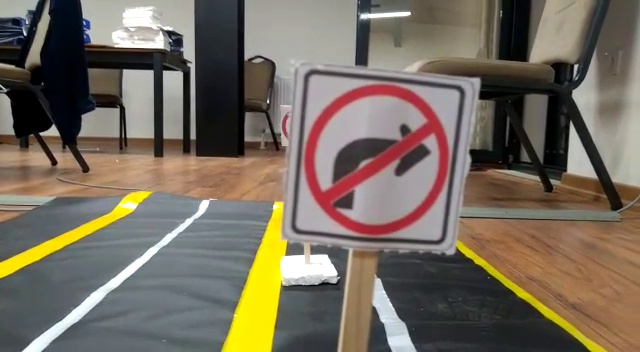saga_donulmez: (305, 77, 452, 243)
